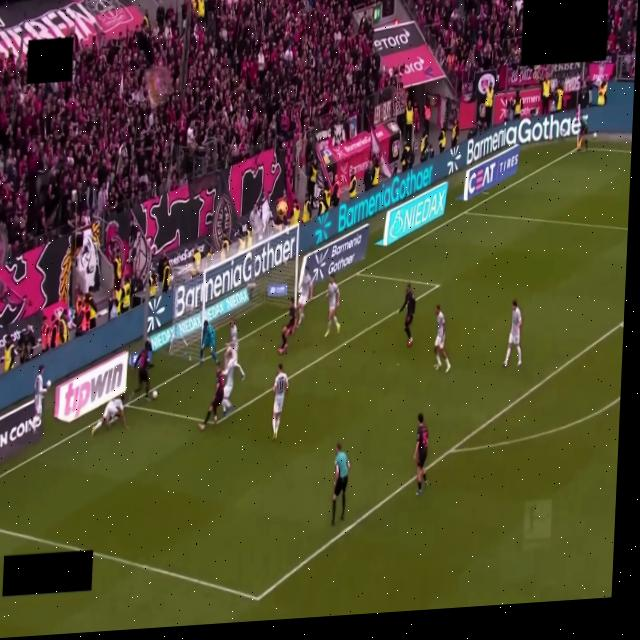ball: (152, 390, 157, 399)
player: (199, 364, 226, 430), (412, 413, 431, 496), (91, 395, 127, 436), (272, 364, 288, 440), (503, 301, 521, 367), (222, 347, 239, 416), (434, 305, 450, 372), (399, 284, 415, 347), (131, 347, 150, 400), (297, 267, 313, 326), (278, 302, 296, 354), (325, 275, 340, 336), (230, 320, 245, 380), (200, 321, 218, 363), (34, 365, 47, 423)
referee: (332, 444, 350, 525)
